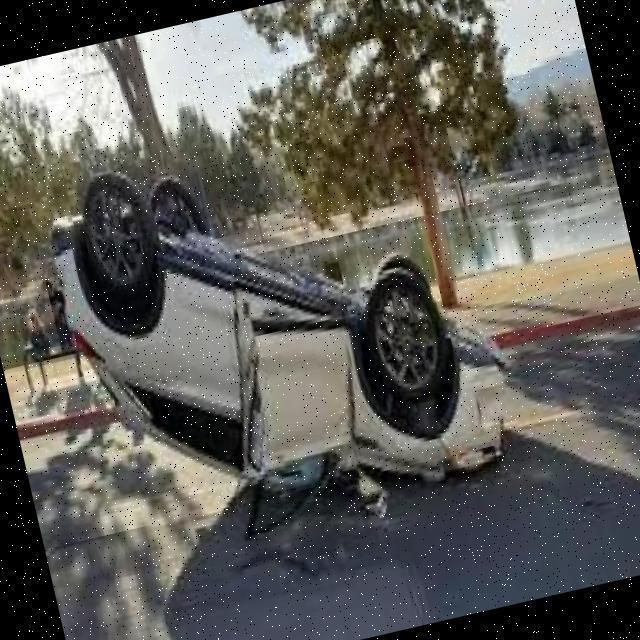accident: (33, 109, 531, 562)
